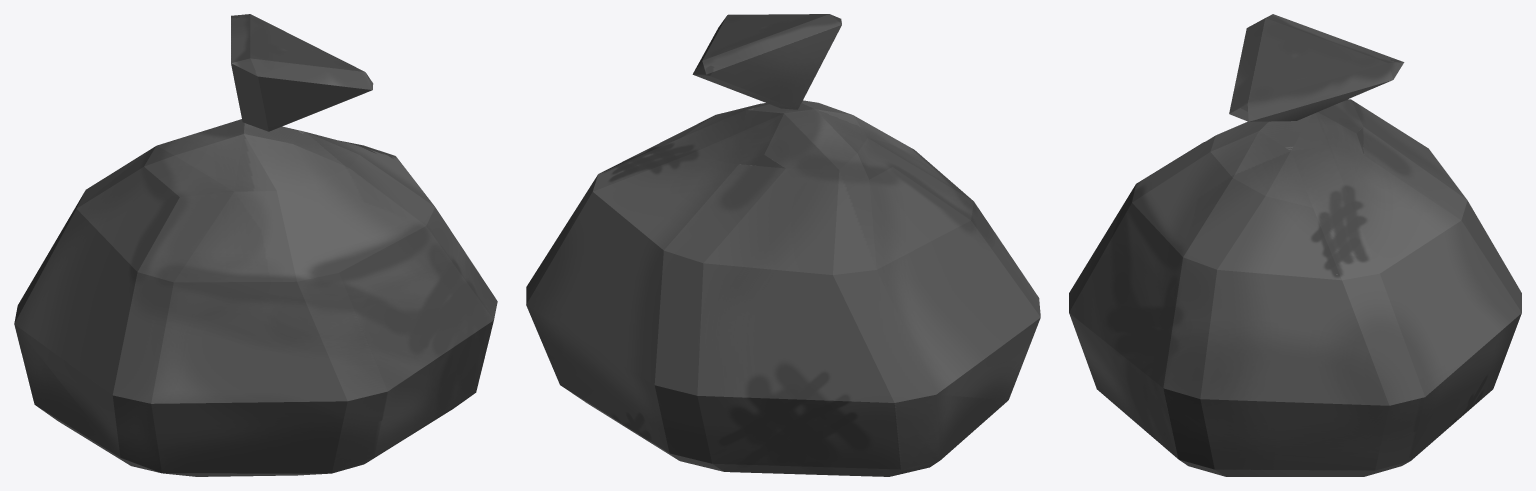
File: saco de lixo.fbx
3 renders of one model, left to right at view 1: azimuth 30°, elevation 25°; view 2: azimuth 150°, elevation 25°; view 3: azimuth 270°, elevation 25°, orthographic. The views are drawn at different scales.
Parts seen in each view (by area): view 1: Esfera UV; view 2: Esfera UV; view 3: Esfera UV.
Part boxes in pixels (x1,y1,x2,y2): Esfera UV: (14,14,497,476); Esfera UV: (526,14,1040,476); Esfera UV: (1069,14,1521,476).
Bounding box in the file's own units: 177 × 169 × 172.
